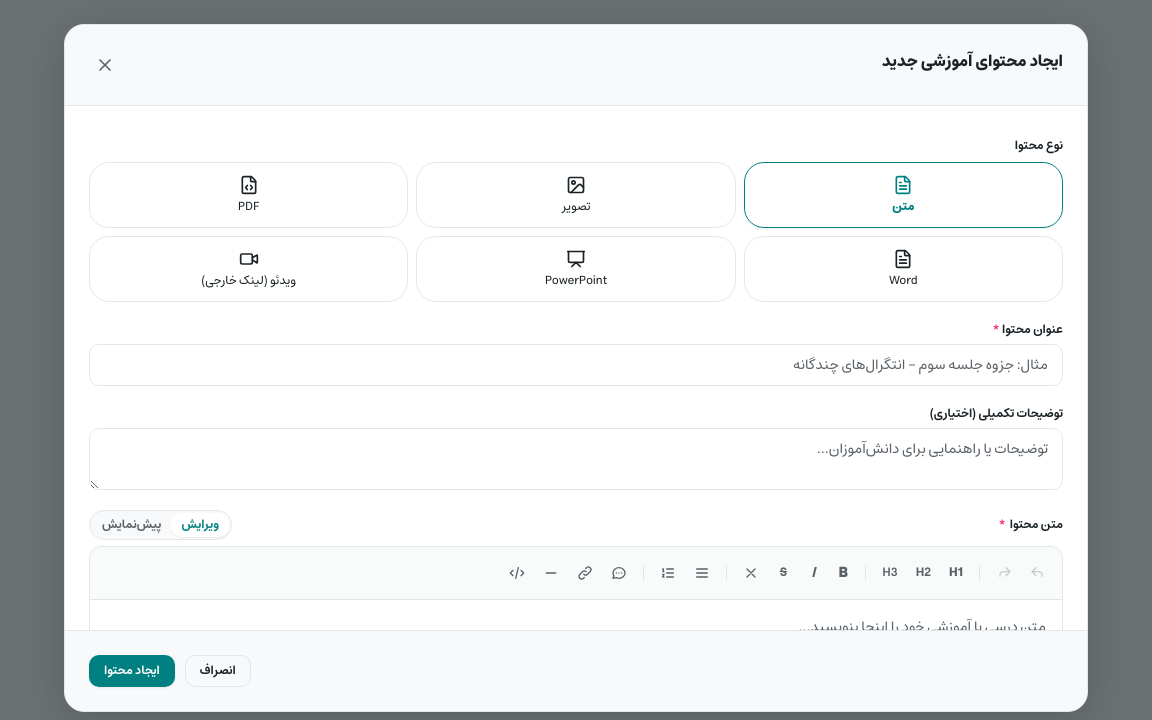
it: Classroom Educational Content — Frontend Flow Tests › Teacher: CreateEditContentModal › displays error alert when mutation rejects with 25,000 limit error
Type "محتوای تست" into the field with placeholder "مثال: جزوه جلسه سوم - انتگرال‌های چندگانه" at [576, 365], box top-left (89, 344), bottom-right (1063, 386)
(page scrolled)
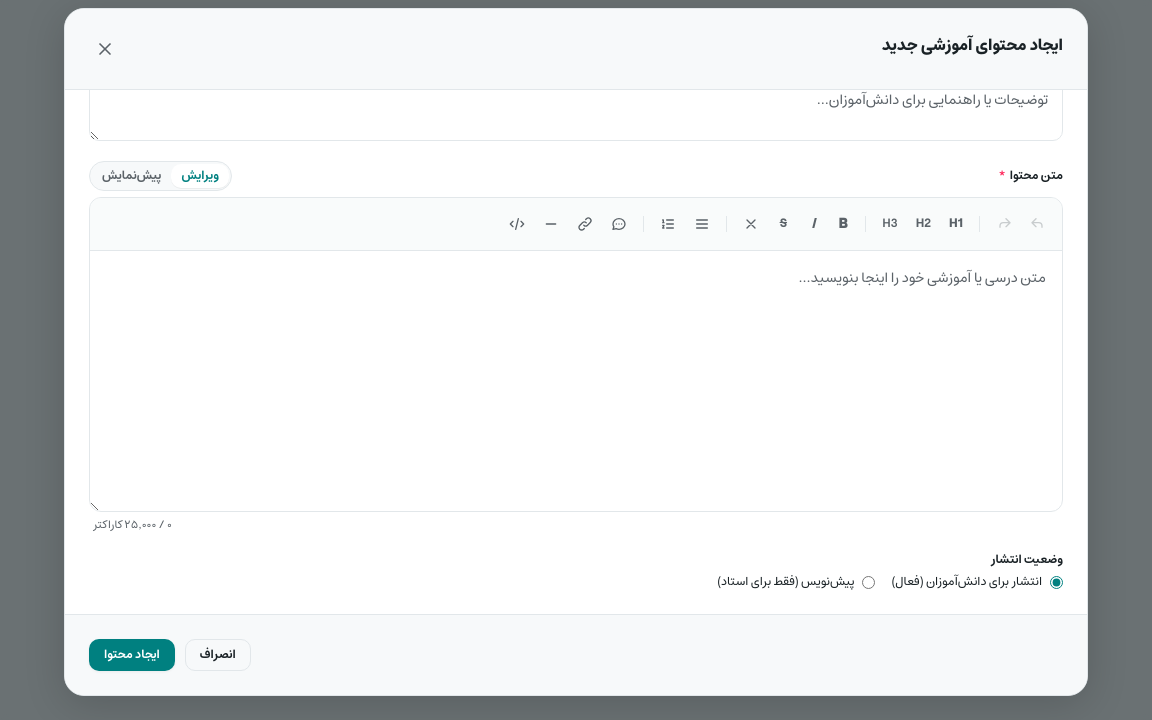
Type "متن نمونه" into the text box with placeholder "متن درسی یا آموزشی خود را اینجا بنویسید..." at [576, 381], box top-left (90, 251), bottom-right (1062, 510)
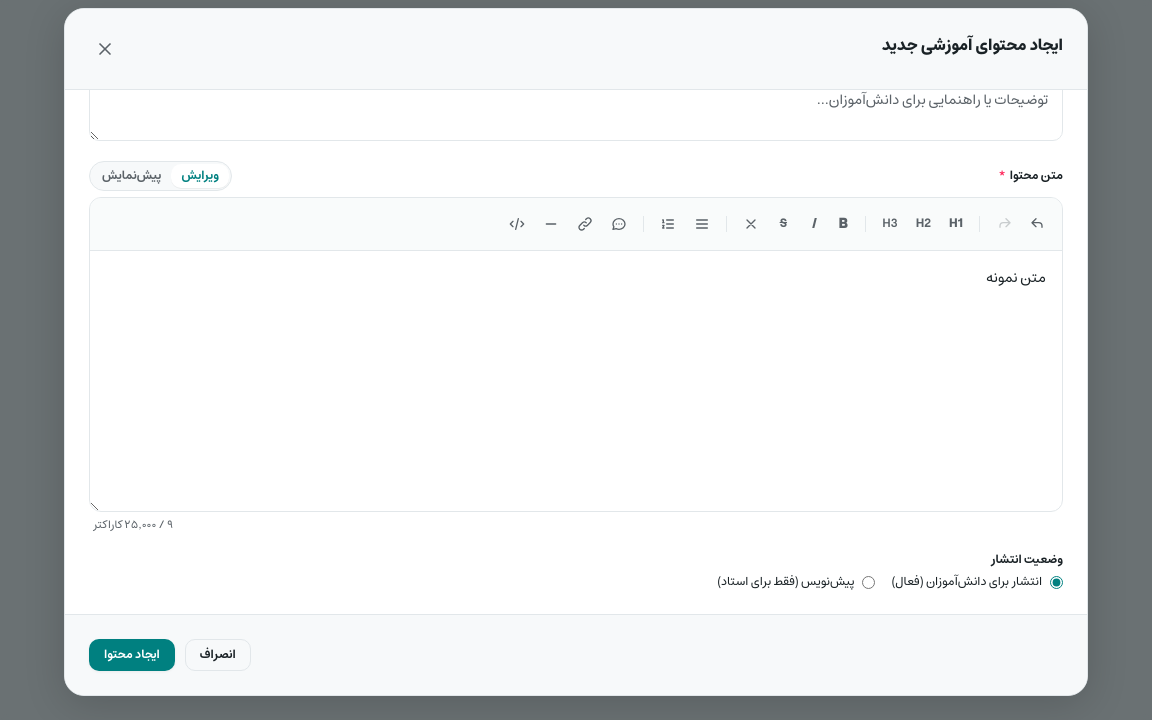
Click the button "ایجاد محتوا" at [132, 655], box top-left (89, 639), bottom-right (175, 671)
(page scrolled)
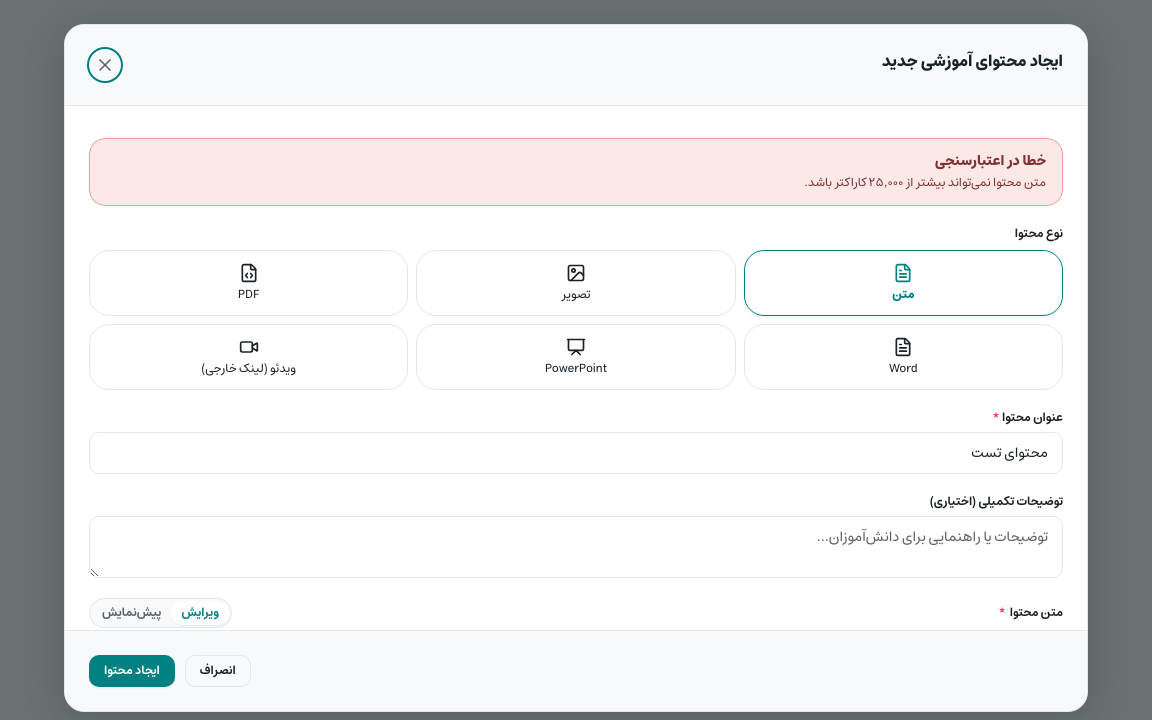
Expected: the text "متن محتوا نمی‌تواند بیشتر از ۲۵٬۰۰۰ کاراکتر باشد." is shown, top-left (804, 173), bottom-right (1046, 192)
